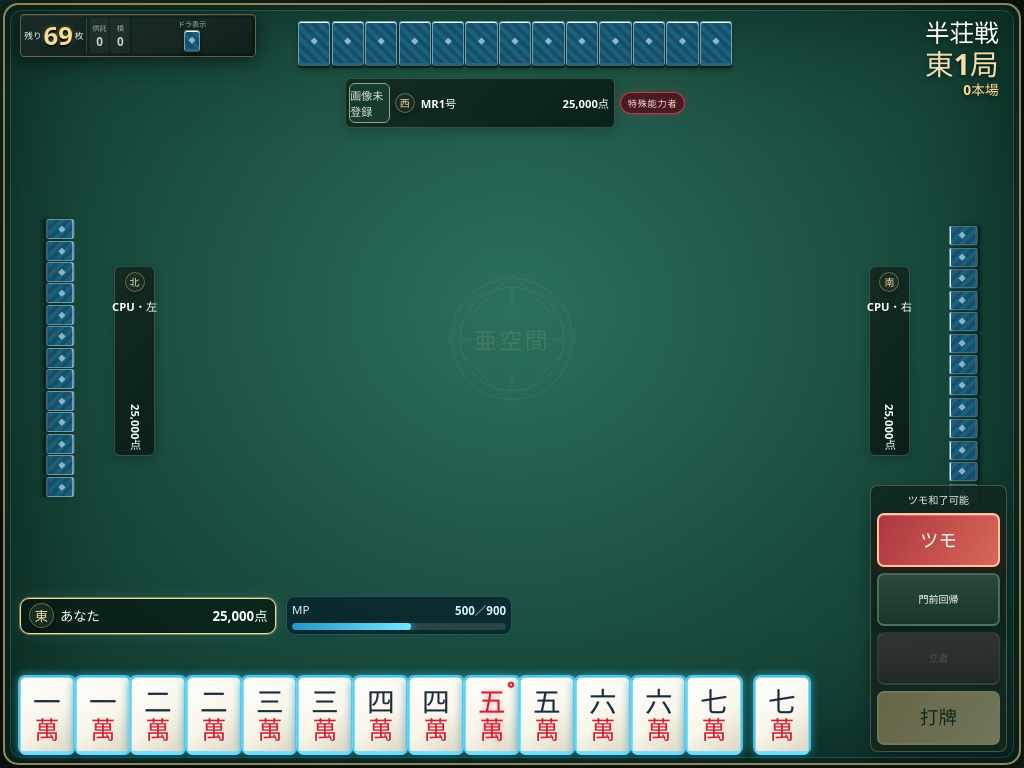
Test: プレイヤースキル1-15の画面操作 › 発動するとMPと残り巡数を表示してボタンを消す
The width and height of the screenshot is (1024, 768).
Click the button "門前回帰" at (938, 599), box [877, 572, 1000, 626]
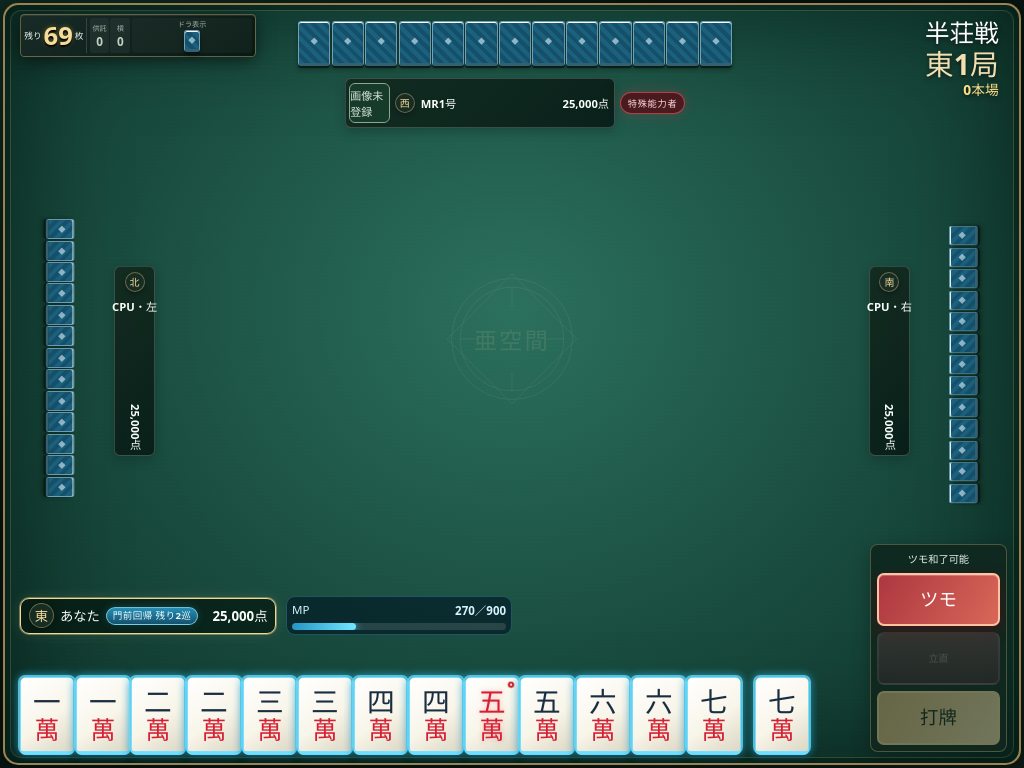
Expected: the text "門前回帰 残り2巡" is shown, [106, 607, 198, 625]
